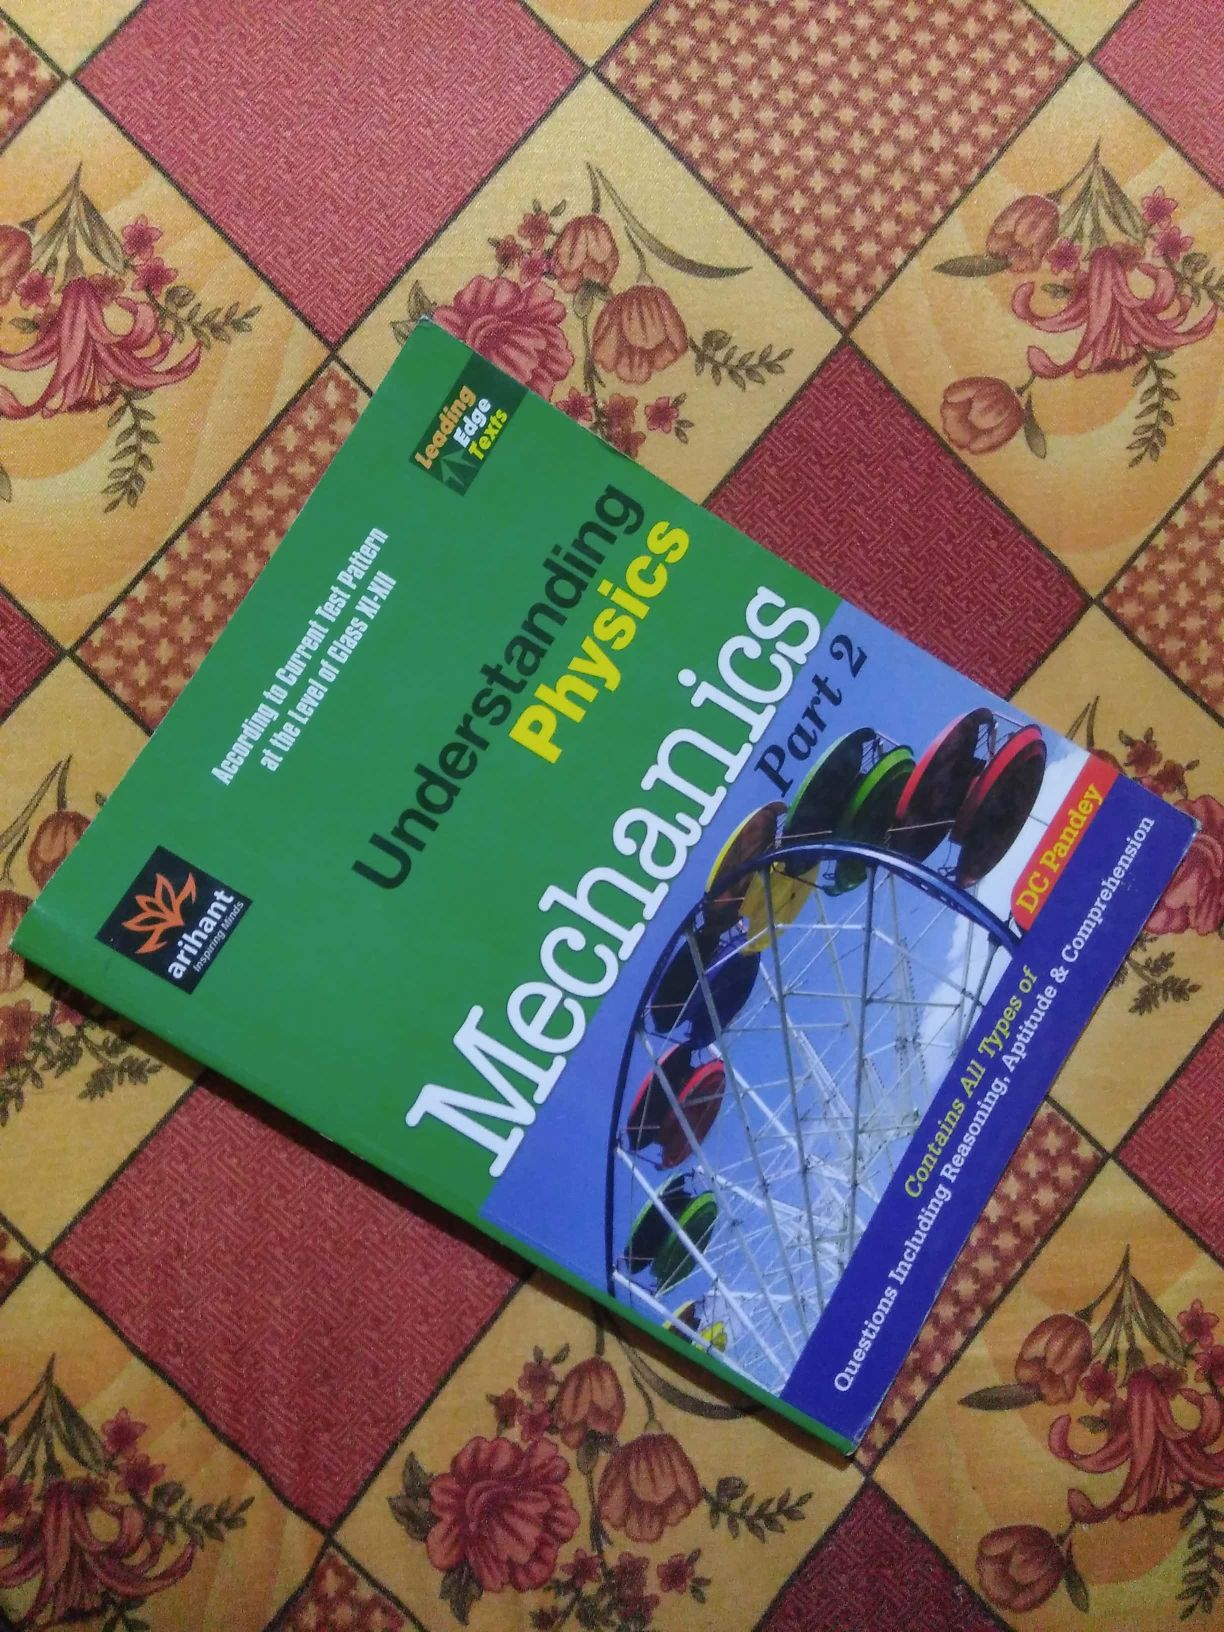mechanics: (44, 371, 1183, 1407)
